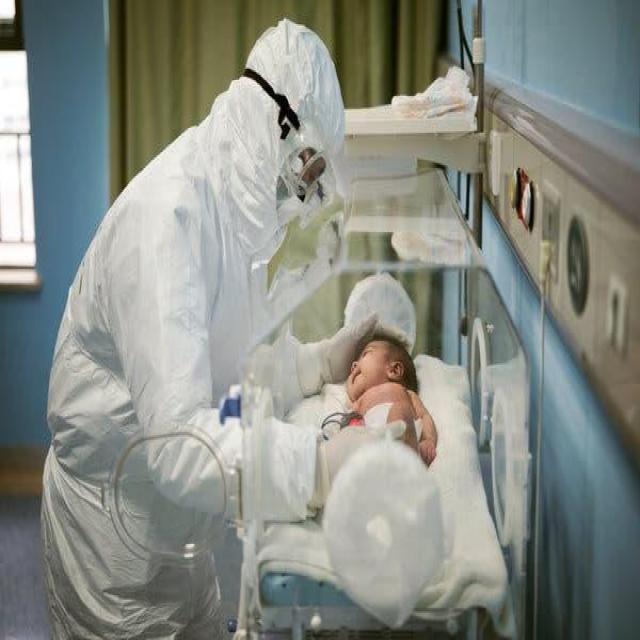Gloves: (314, 419, 405, 496), (320, 310, 403, 376)
Goggles: (279, 131, 338, 216)
